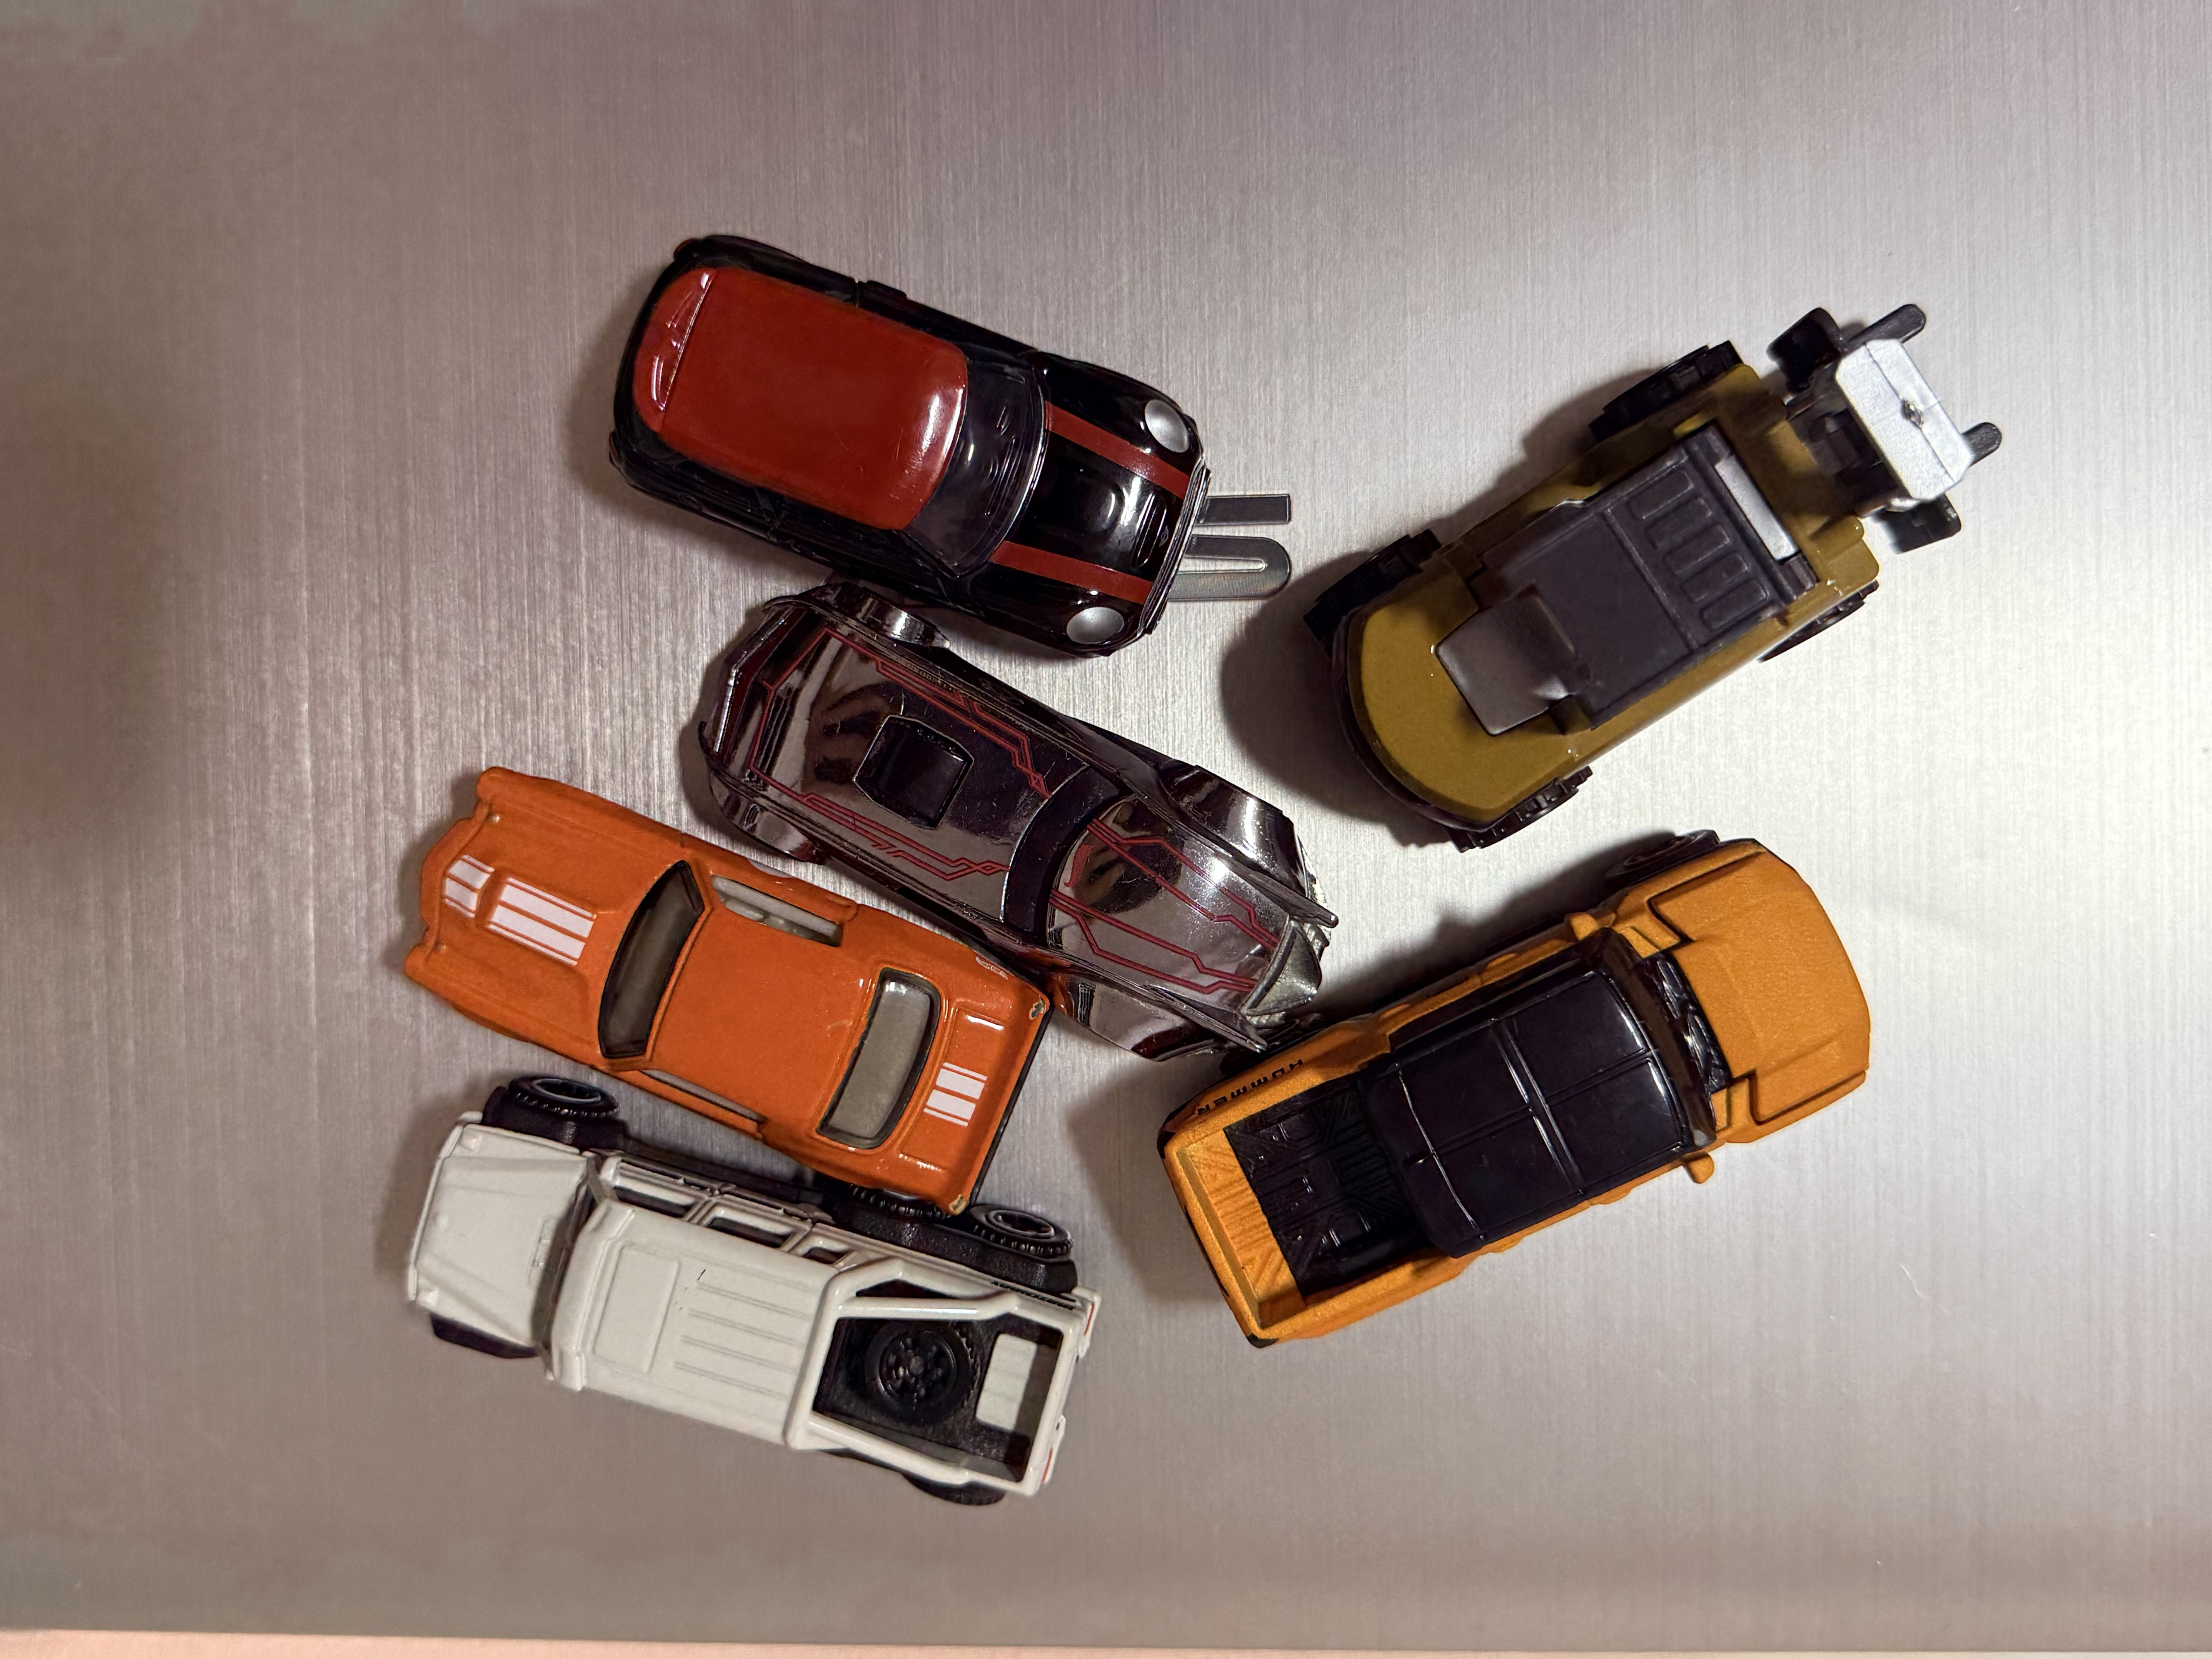camaro_rs: (402, 766, 1055, 1218)
dc_comics: (695, 580, 1341, 1065)
forklift: (1303, 297, 2003, 853)
gmc_hummer: (1155, 827, 1874, 1394)
mercedes_benz: (401, 1074, 1100, 1509)
mini_cooper: (604, 233, 1212, 659)
